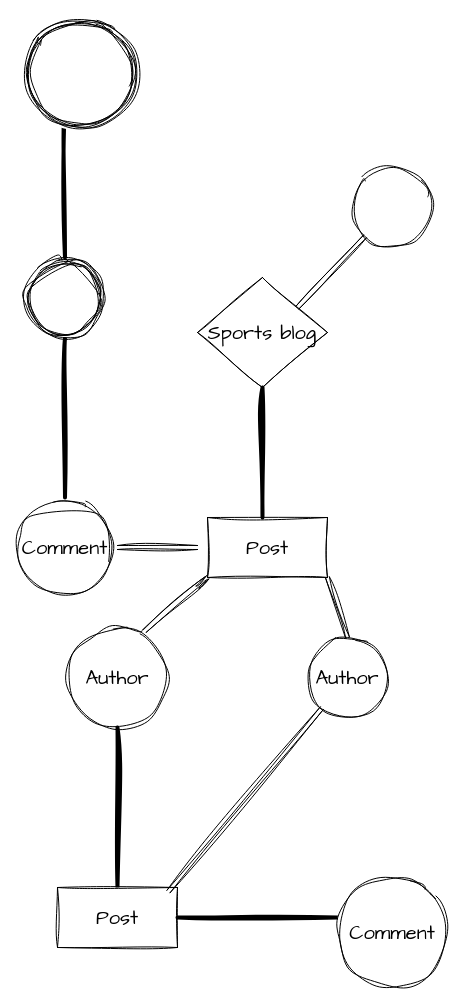
Image size: 465x1005. Some labels were removed from this diagram. Here are the shapes that lost their labels. From the top down, the box of each, then its label:
(24, 16, 138, 130): username
(352, 166, 432, 248): Creator
(24, 256, 105, 338): Reader
